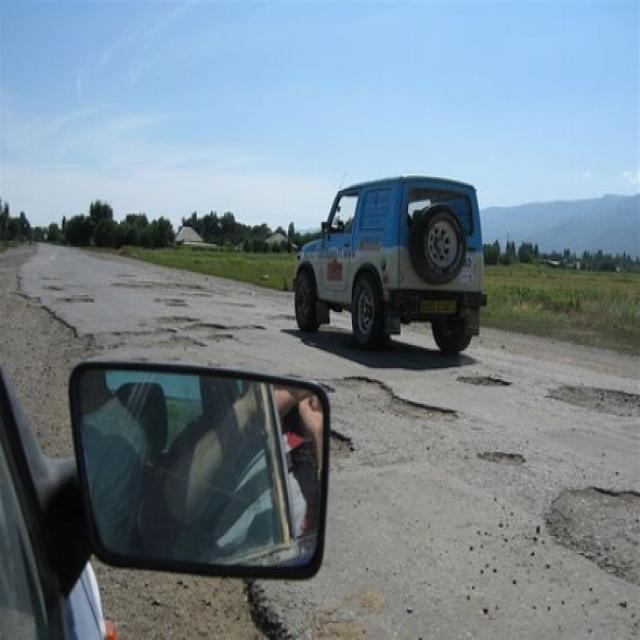pothole: (548, 473, 640, 582), (341, 368, 462, 427), (544, 374, 640, 414), (454, 370, 514, 386)
